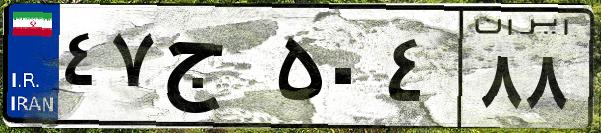0: (330, 28, 385, 110)
4: (385, 28, 445, 110), (57, 26, 110, 100)
5: (270, 28, 330, 110)
7: (110, 28, 158, 98)
8: (475, 38, 525, 113), (525, 38, 570, 115)
ج: (158, 20, 270, 120)
